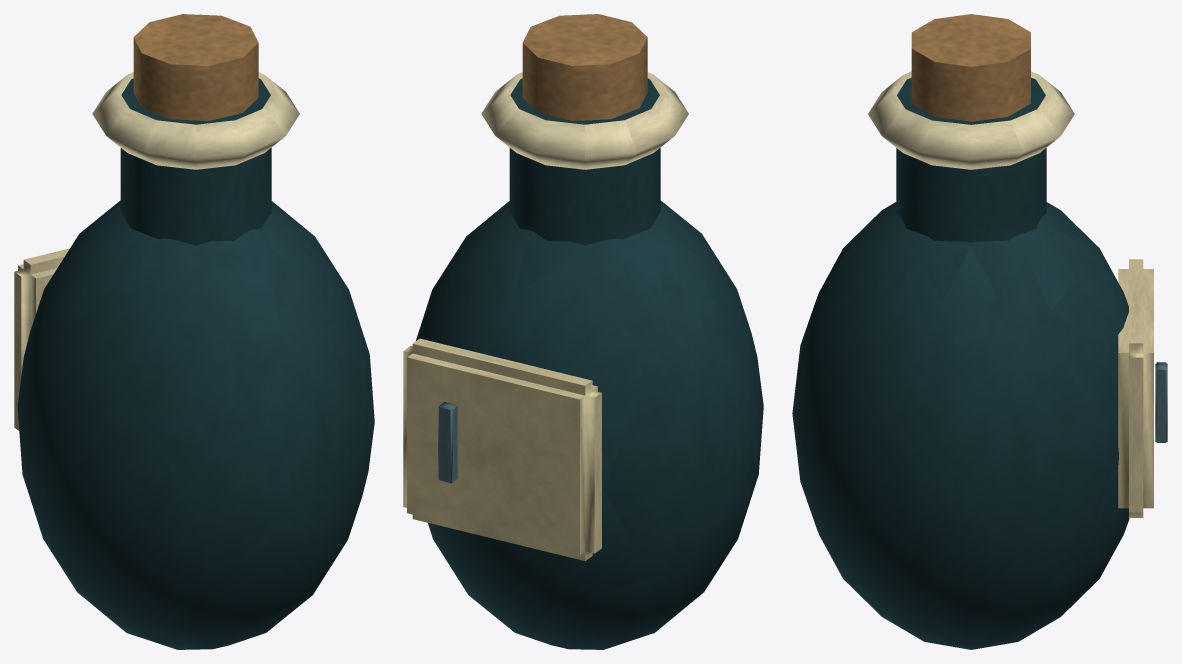
Rendered from item-WardOil.fbx.
3 renders of one model, left to right at view 1: azimuth 30°, elevation 25°; view 2: azimuth 150°, elevation 25°; view 3: azimuth 270°, elevation 25°, orthographic.
Parts seen in each view (by area): view 1: item-WardOil__Geometry; view 2: item-WardOil__Geometry; view 3: item-WardOil__Geometry.
Part boxes in pixels (x1,y1,x2,y2): item-WardOil__Geometry: [14, 14, 374, 649]; item-WardOil__Geometry: [403, 14, 763, 649]; item-WardOil__Geometry: [792, 14, 1167, 649].
Bounding box in the file's own units: 0.26 × 0.479 × 0.2725.
Materials: 1 (1 with a texture image).
